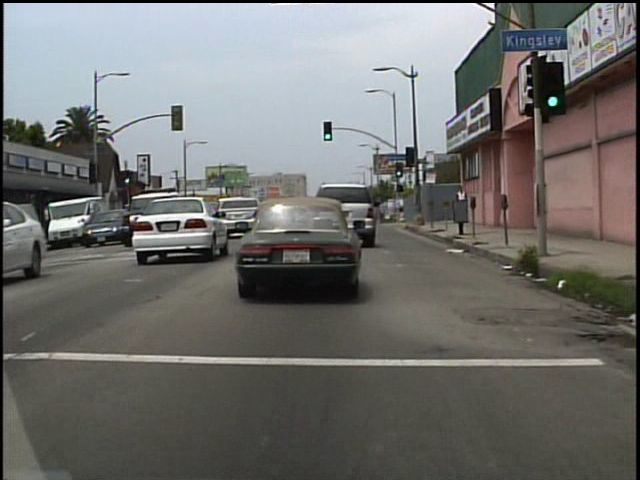person: (453, 184, 469, 228)
